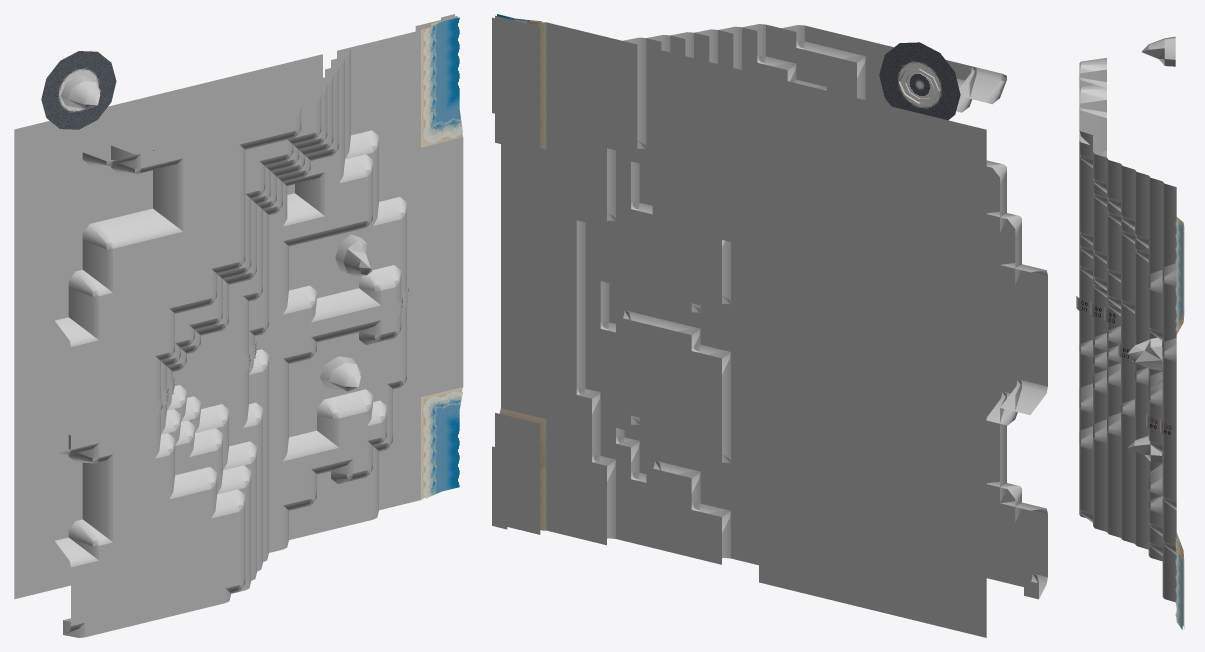
File: Barrier-Reef_12_03.obj
3 renders of one model, left to right at view 1: azimuth 30°, elevation 25°; view 2: azimuth 150°, elevation 25°; view 3: azimuth 270°, elevation 25°, orthographic. The views are drawn at different scales.
Parts seen in each view (by area): view 1: map; view 2: map; view 3: map.
Part boxes in pixels (bbox=[...]): map: bbox=[14, 14, 463, 637]; map: bbox=[492, 14, 1047, 637]; map: bbox=[1076, 36, 1184, 629].
Bounding box in the file's own units: 32 × 36.37 × 8.2.
